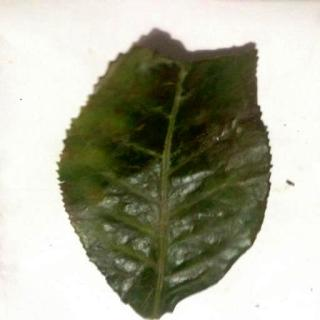Red Leaf Spot: (57, 48, 271, 320)
